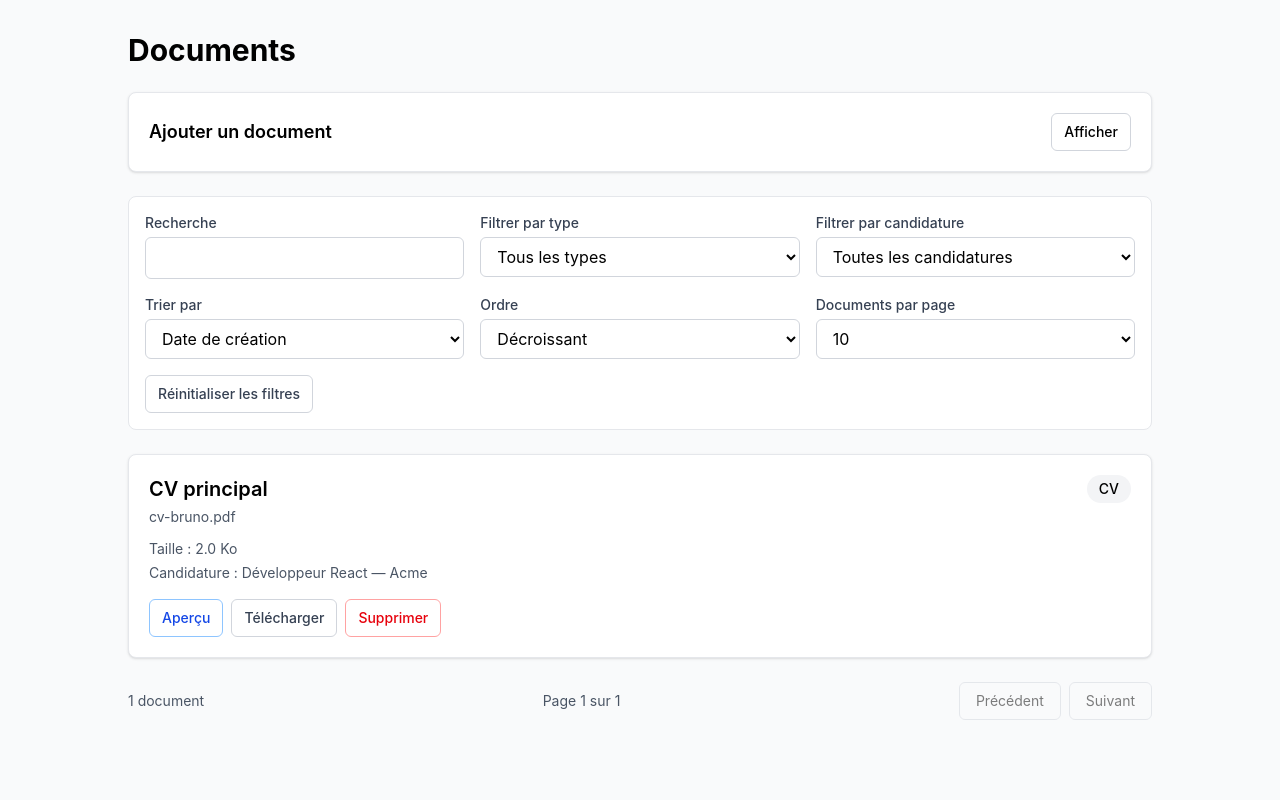
Test case: DocumentsPage › keeps the document and shows an error when deletion fails
The width and height of the screenshot is (1280, 800).
Click the button "Supprimer". click: (393, 618)
box: x1=345 y1=599 x2=441 y2=637
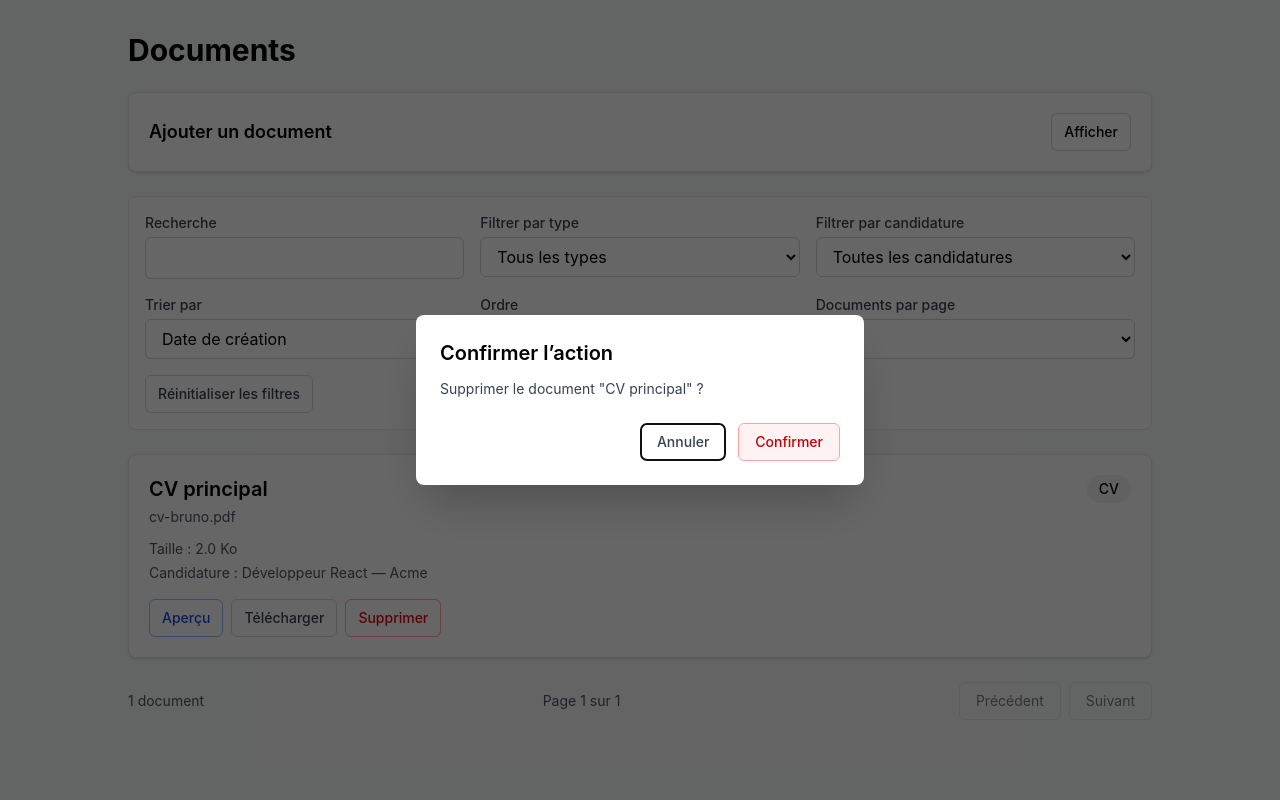
Click the button "Confirmer". click: (789, 442)
box: x1=738 y1=423 x2=840 y2=461
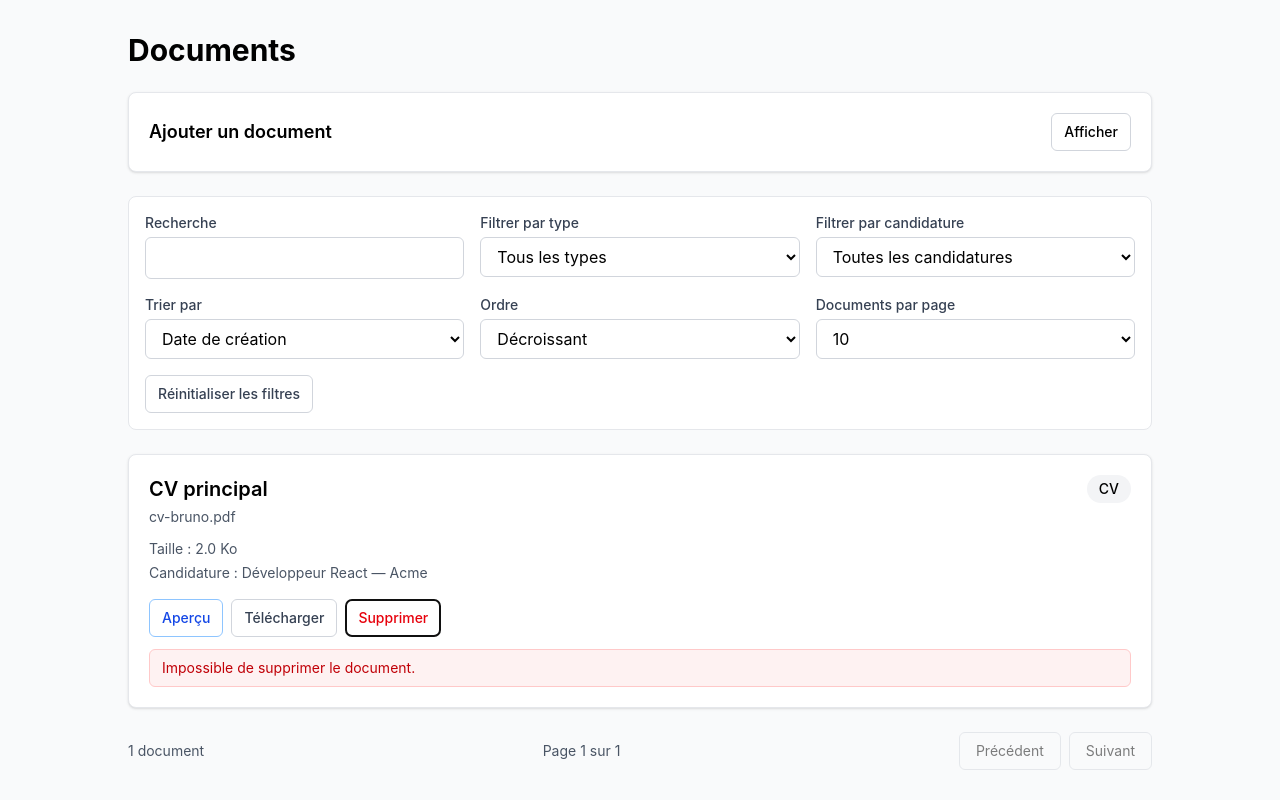
Expected: the button "Supprimer" is enabled, x1=345 y1=599 x2=441 y2=637
Result: the message reads "Impossible de supprimer le document." at x1=162 y1=659 x2=415 y2=676
